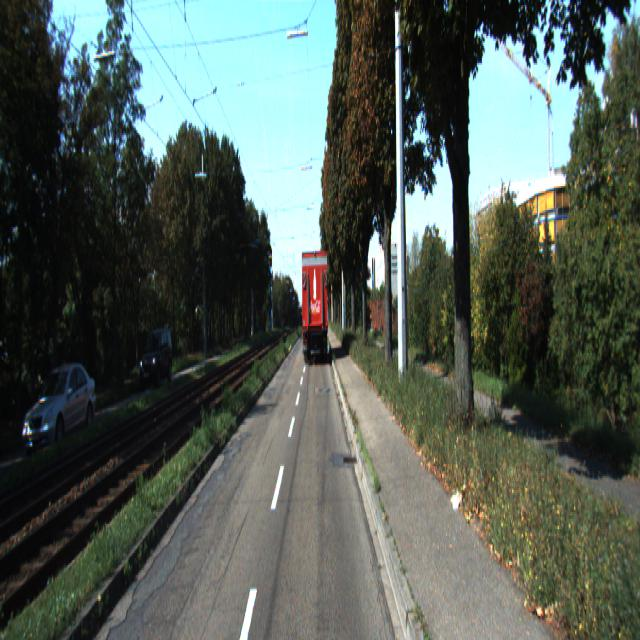Car: (23, 355, 99, 461), (300, 243, 329, 361), (138, 322, 173, 386)
